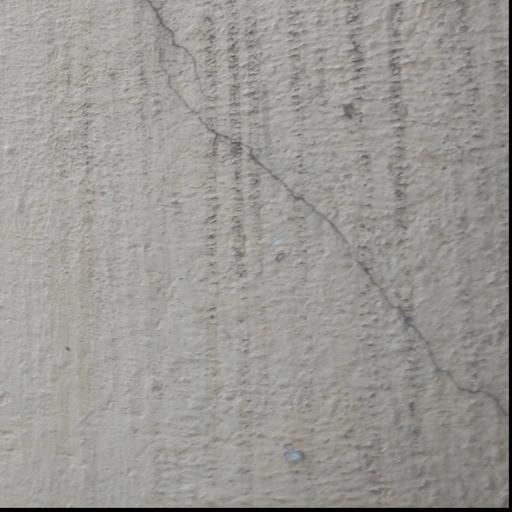minor_crack: (136, 2, 512, 429)
